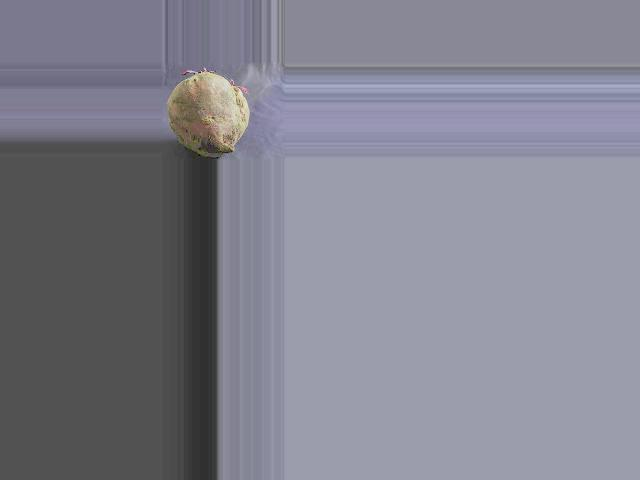beet: (167, 68, 249, 156)
